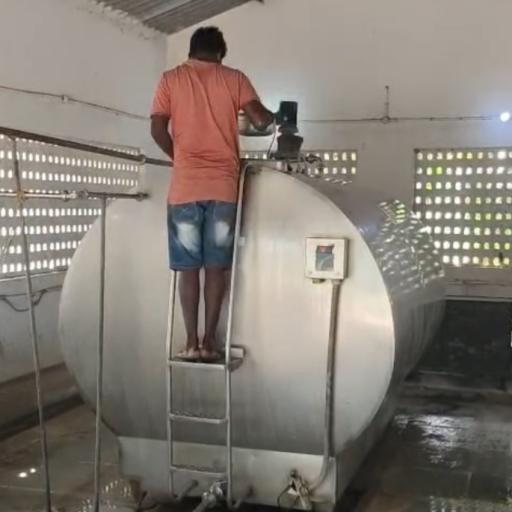silo: (57, 156, 448, 507)
vessel: (239, 114, 277, 137)
